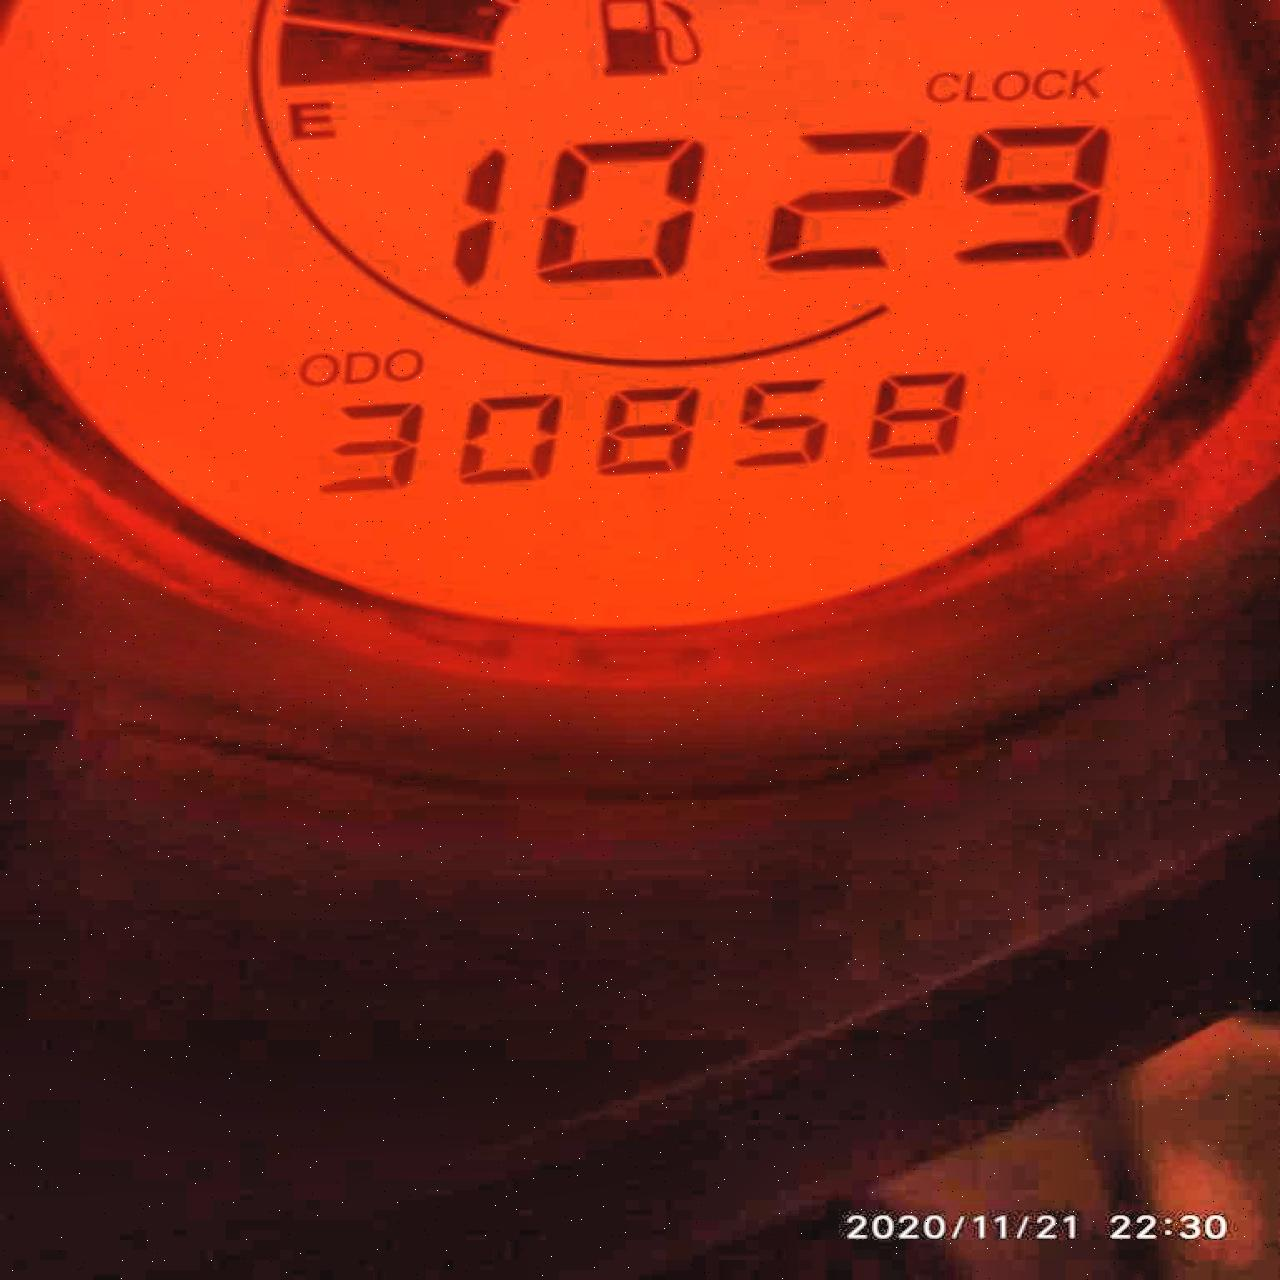0: (531, 132, 709, 287), (455, 393, 563, 485)
1: (449, 143, 511, 288)
2: (764, 125, 937, 275)
3: (316, 402, 423, 492)
5: (730, 377, 828, 468)
8: (594, 384, 699, 475), (866, 370, 967, 459)
9: (955, 123, 1110, 266)
X: (280, 94, 339, 139), (341, 348, 381, 383), (298, 350, 338, 384), (383, 348, 423, 380), (924, 72, 959, 101), (993, 70, 1029, 98), (1070, 67, 1101, 98), (1033, 68, 1064, 98), (961, 70, 986, 102)
odometer: (15, 0, 1216, 644)
